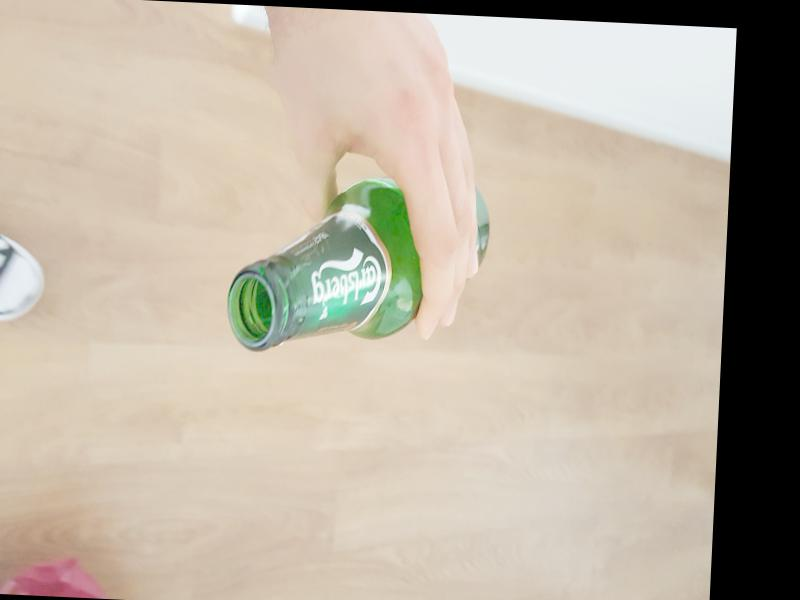Beer: (225, 172, 491, 364)
